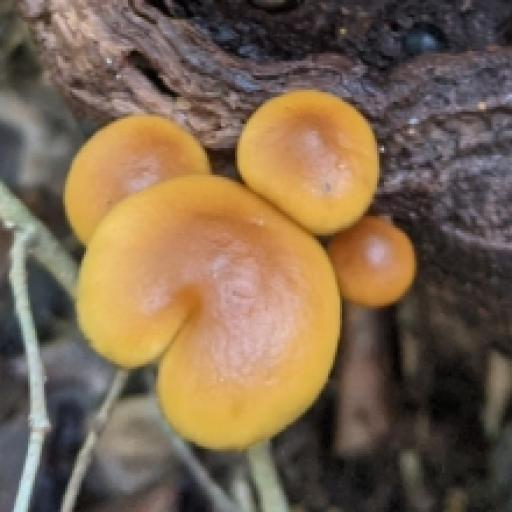mushroom: (58, 83, 420, 454)
